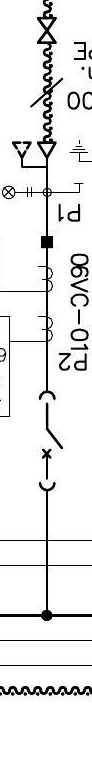22_breaker: (37, 389, 65, 492)
22_ll: (1, 185, 33, 200)
terminator_splicing_kits: (36, 16, 58, 44)
terminator_w_future: (11, 140, 58, 169)
